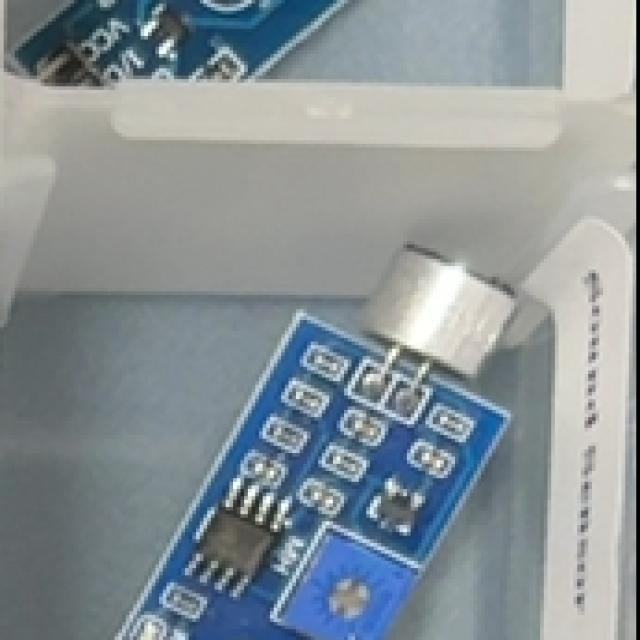Sound Sensor: (90, 233, 511, 640)
